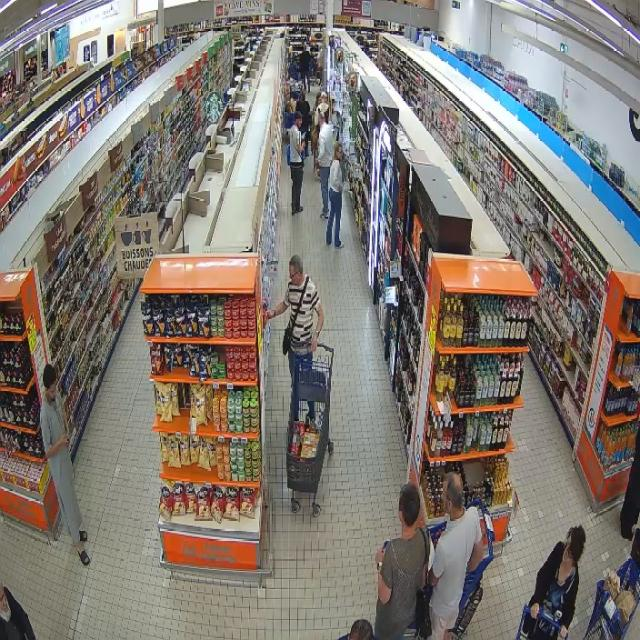bags: (282, 276, 309, 355), (416, 578, 432, 638)
hands: (531, 603, 540, 619), (58, 435, 69, 447), (376, 547, 384, 563), (264, 310, 274, 322), (311, 335, 318, 352), (560, 626, 568, 639), (302, 140, 306, 148)
person: (40, 365, 89, 565), (430, 473, 483, 639), (375, 484, 429, 639), (265, 255, 323, 384), (523, 526, 585, 639), (317, 104, 333, 218), (327, 144, 343, 247), (290, 113, 303, 214)
